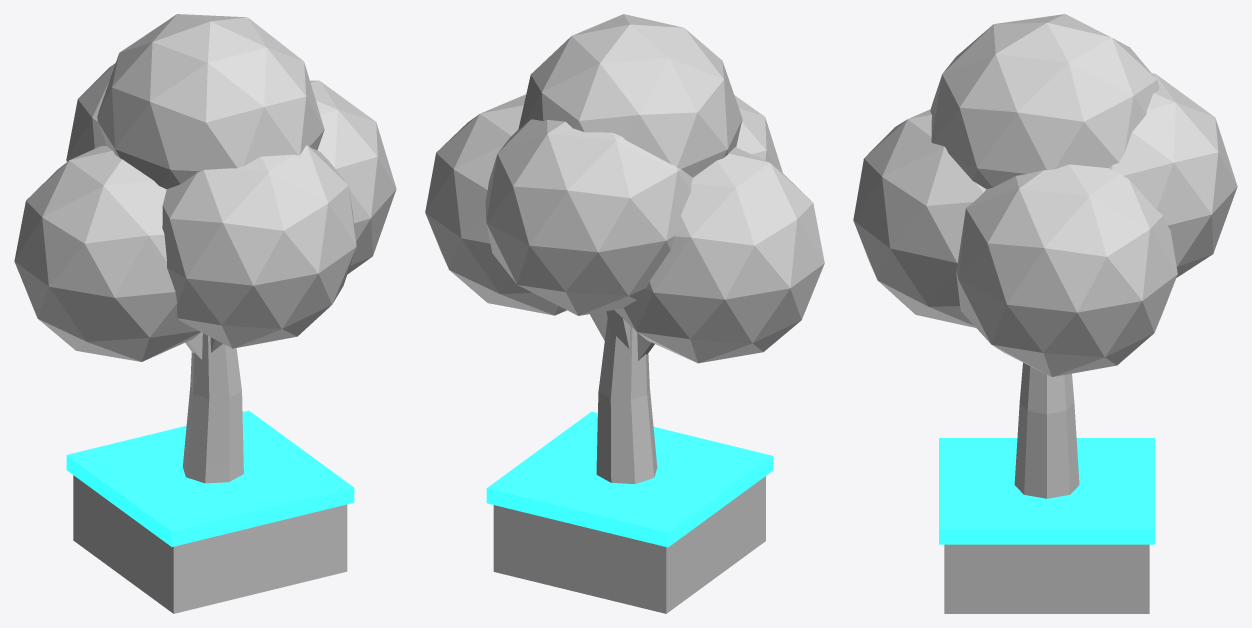
3 views of the same model, side by side, from view 1: azimuth 30°, elevation 25°; view 2: azimuth 150°, elevation 25°; view 3: azimuth 270°, elevation 25° (orthographic). The views are drawn at different scales.
Parts seen in each view (by area): view 1: Neon_PlanterTree_Standard; view 2: Neon_PlanterTree_Standard; view 3: Neon_PlanterTree_Standard.
Part boxes in pixels (x1,y1,x2,y2): Neon_PlanterTree_Standard: (14,14,396,613); Neon_PlanterTree_Standard: (425,14,824,613); Neon_PlanterTree_Standard: (853,14,1237,613).
Size of the model in its own units: 2.5 by 3.53 by 2.24.
